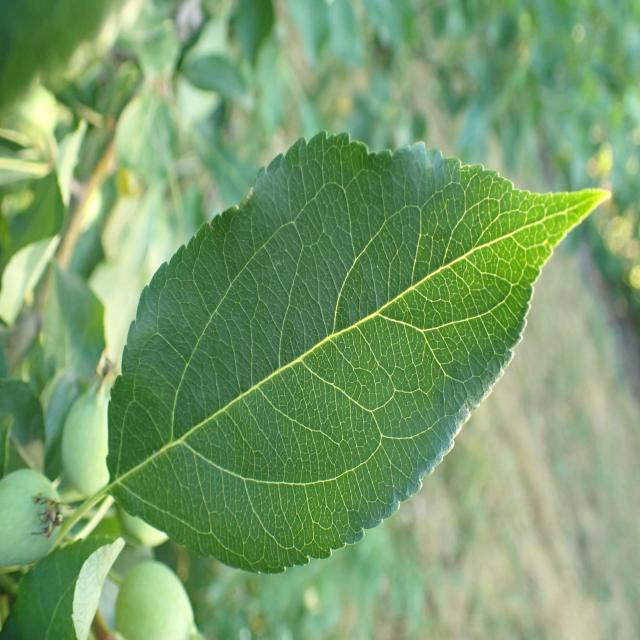healthy: (109, 129, 612, 575), (0, 532, 126, 640)
